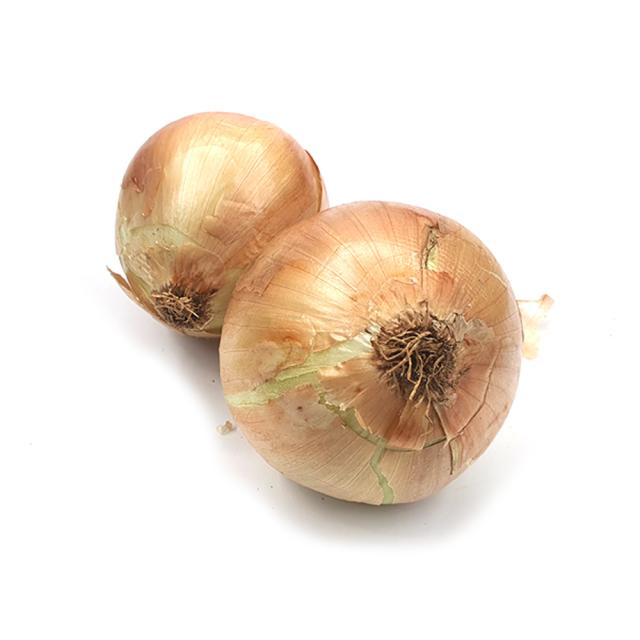onion: (109, 110, 527, 510), (216, 198, 525, 509)
